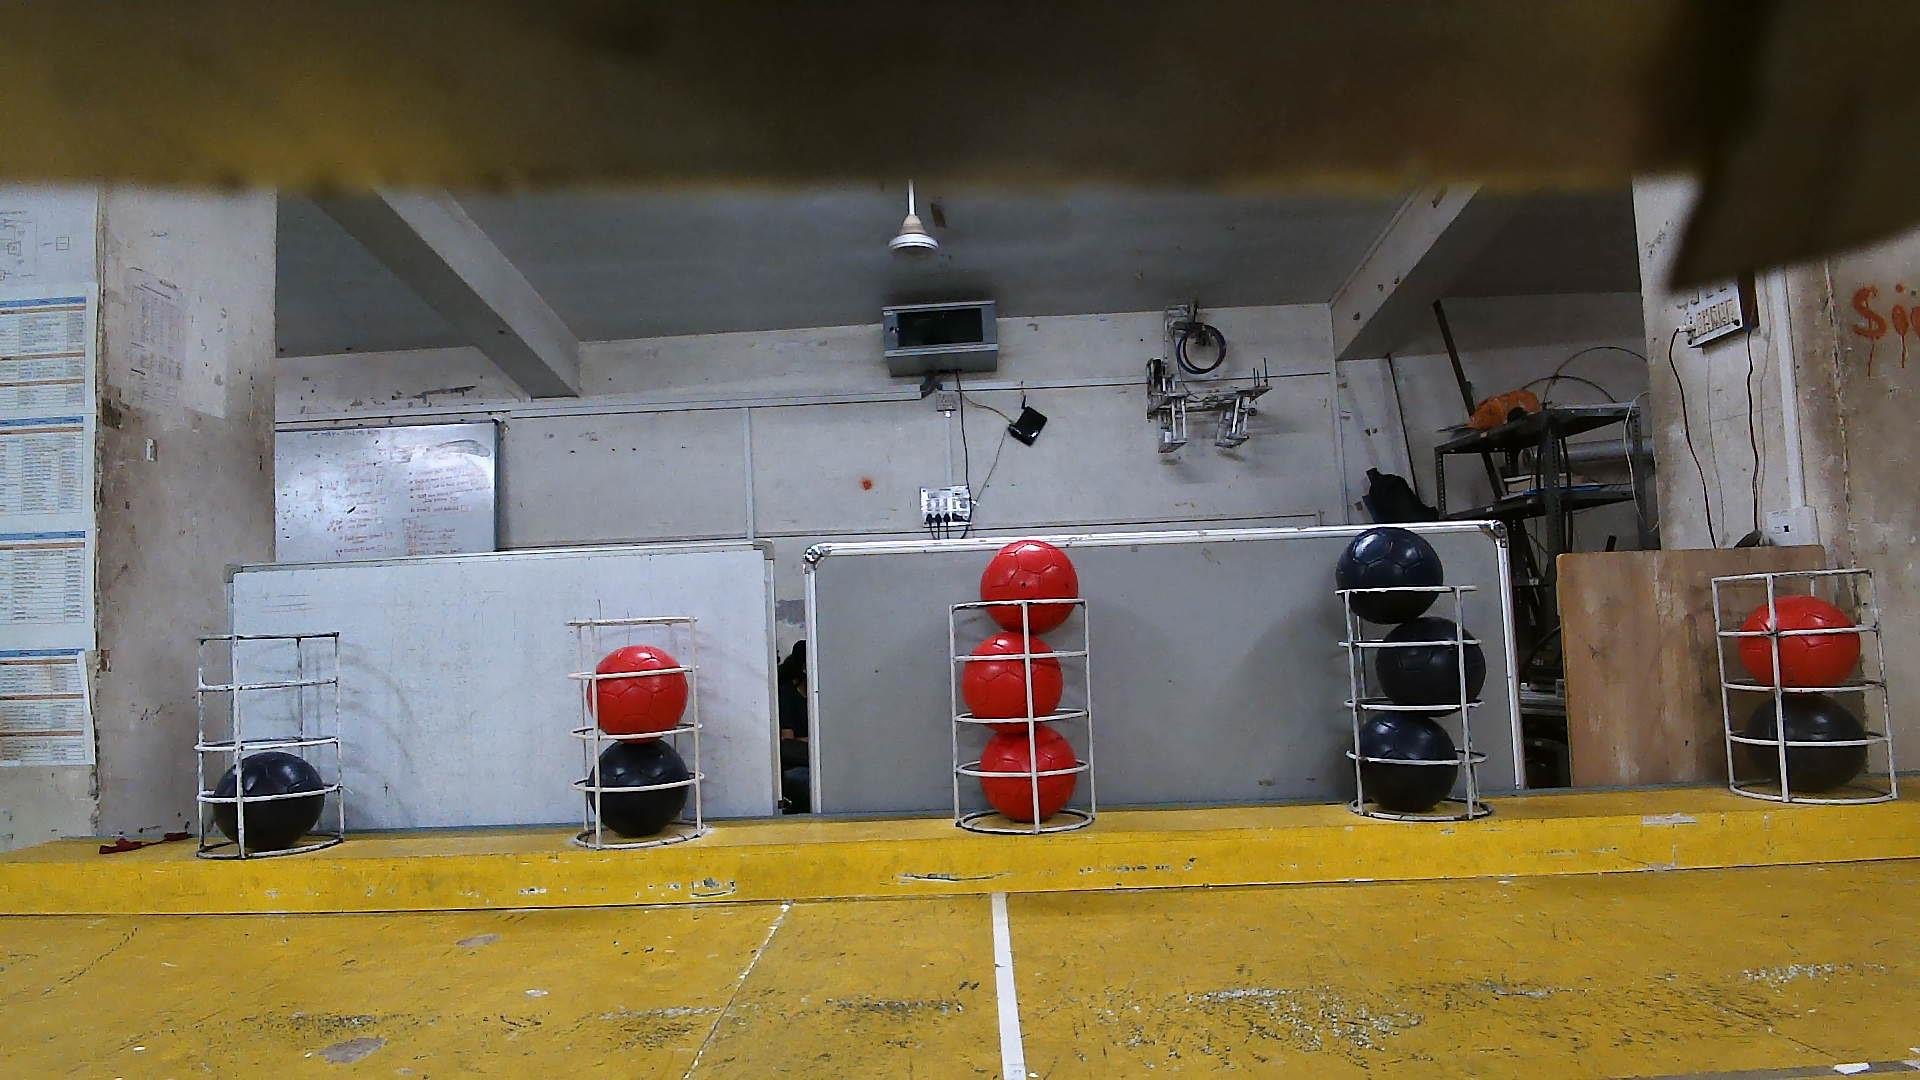dhoka: (1745, 692, 1869, 796), (210, 750, 326, 852), (1335, 525, 1444, 622), (1357, 708, 1458, 812), (1377, 617, 1486, 711), (591, 740, 688, 837)
laale: (1737, 596, 1859, 686), (960, 630, 1065, 732), (978, 541, 1080, 634), (585, 645, 690, 735), (978, 728, 1076, 822)
